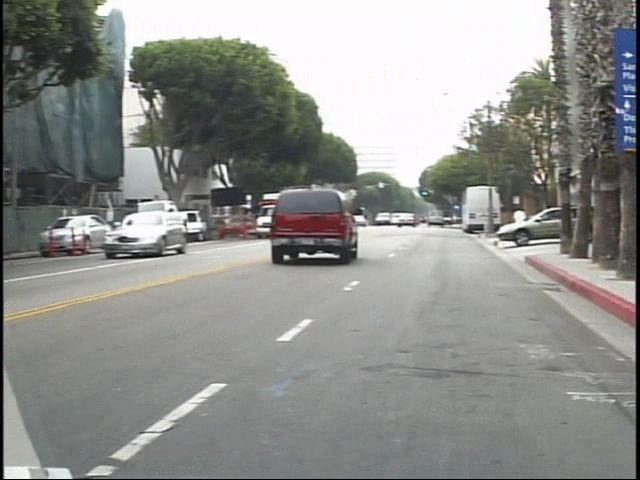person: (524, 201, 542, 241)
